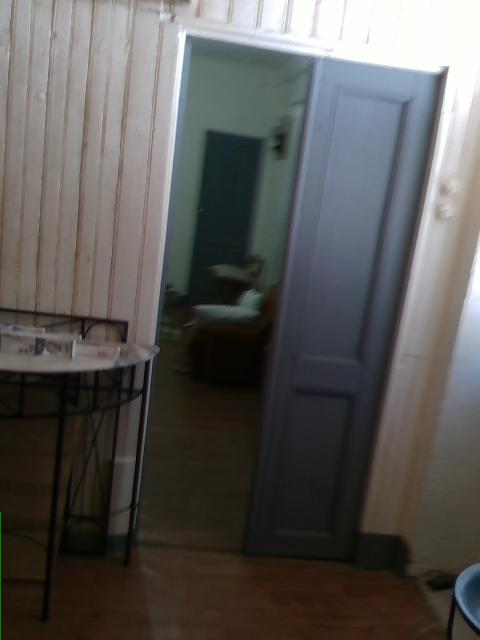door: (239, 54, 444, 560)
